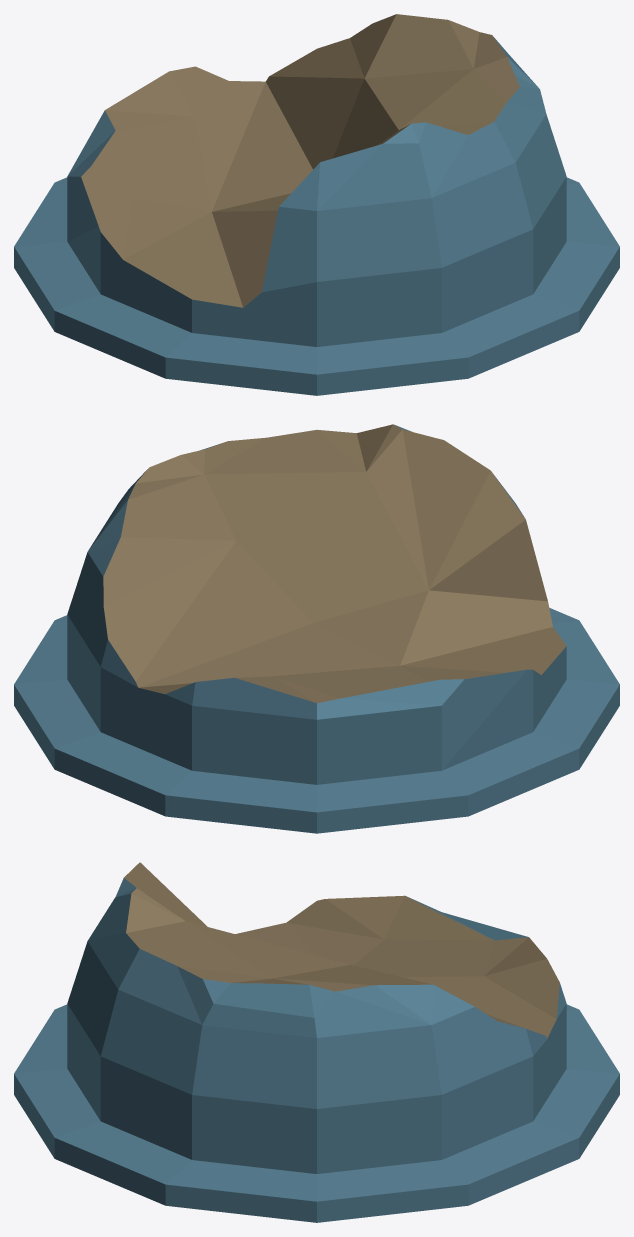
File: SM_Bld_Roof_Cap_Destroyed_02.fbx
The picture shows the model from 3 angles, top to bottom: view 1: azimuth 30°, elevation 25°; view 2: azimuth 150°, elevation 25°; view 3: azimuth 270°, elevation 25°; orthographic projection.
Visible parts, largest first — view 1: SM_Bld_Roof_Cap_Destroyed_02; view 2: SM_Bld_Roof_Cap_Destroyed_02; view 3: SM_Bld_Roof_Cap_Destroyed_02.
Part boxes in pixels (box(x1,y1,x2,y2)): SM_Bld_Roof_Cap_Destroyed_02: box(14, 14, 619, 395); SM_Bld_Roof_Cap_Destroyed_02: box(14, 424, 619, 833); SM_Bld_Roof_Cap_Destroyed_02: box(14, 862, 619, 1222).
Bounding box in the file's own units: 523 × 199 × 523.
